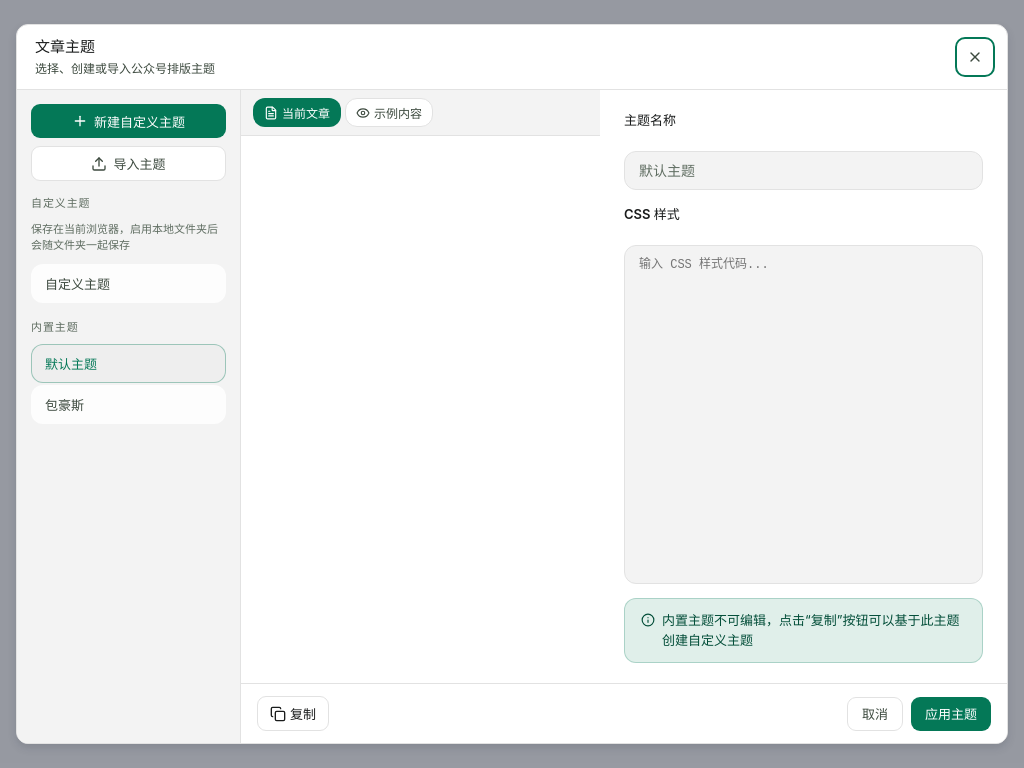
Test: ThemePanel › selects a theme when clicked
Click the button "自定义主题".
click(128, 283)  # box [31,264,226,303]
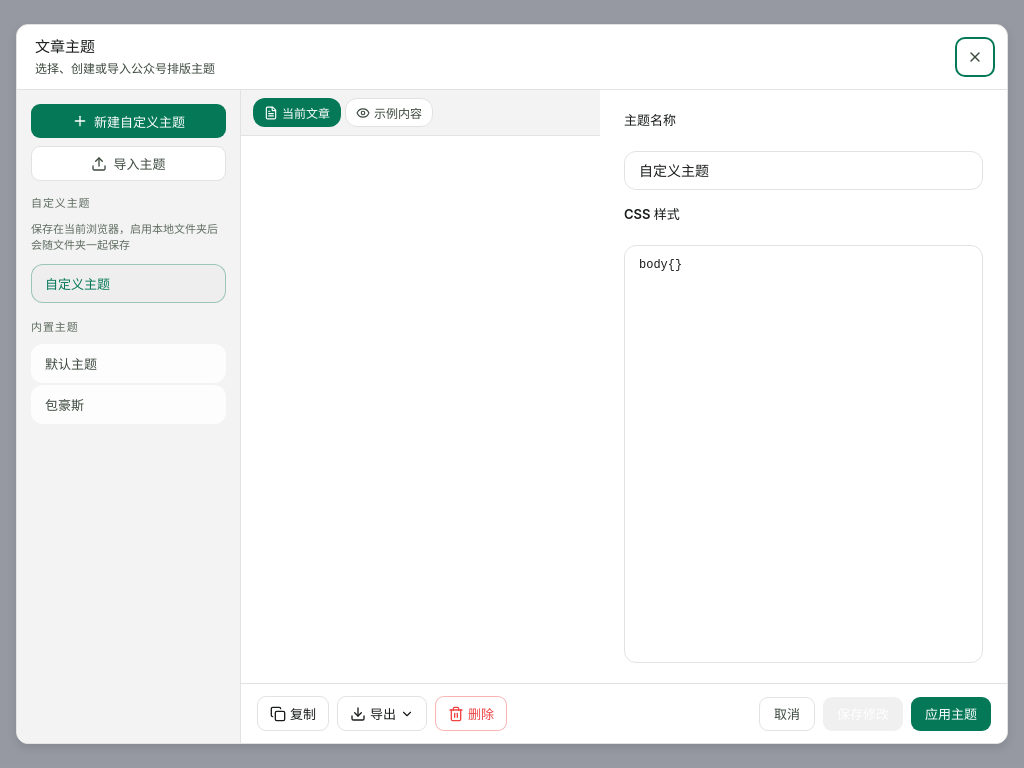
Now the field with placeholder "输入主题名称..." holds "自定义主题", box [624,151,983,190]
